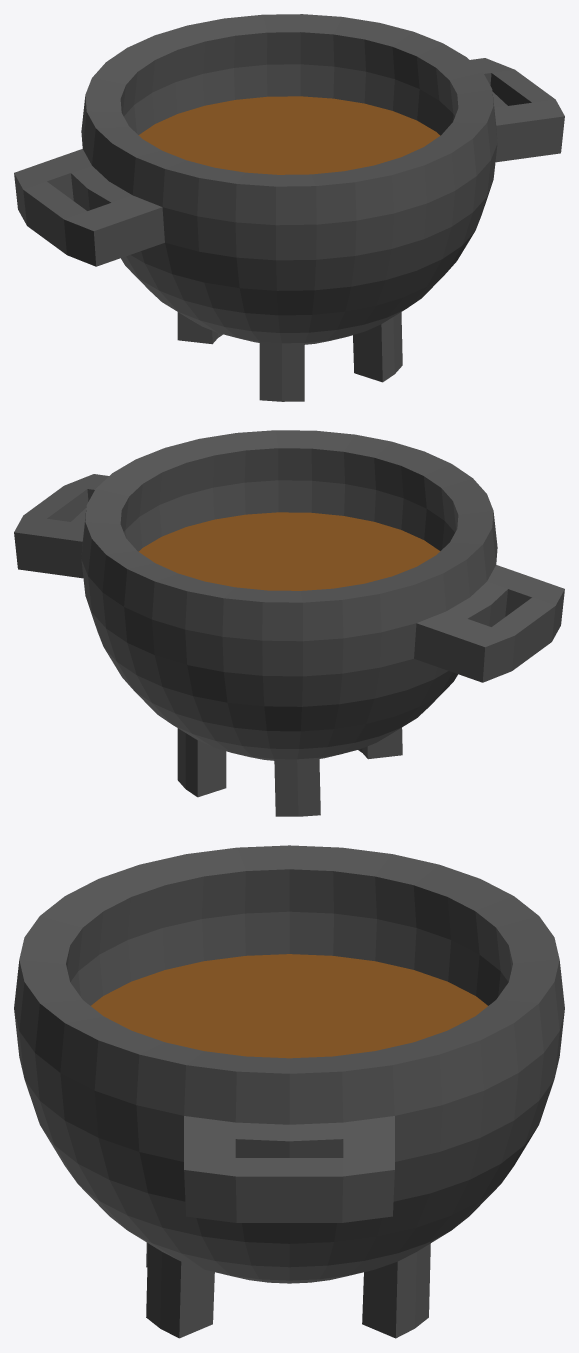
File: cauldron.fbx
The picture shows the model from 3 angles, top to bottom: view 1: azimuth 30°, elevation 25°; view 2: azimuth 150°, elevation 25°; view 3: azimuth 270°, elevation 25°; orthographic projection. The views are drawn at different scales.
Parts seen in each view (by area): view 1: Sphere; view 2: Sphere; view 3: Sphere.
Part boxes in pixels (x1=…): Sphere: x1=14, y1=14, x2=564, y2=401; Sphere: x1=14, y1=430, x2=564, y2=816; Sphere: x1=14, y1=845, x2=564, y2=1338.
Size of the model in its own units: 272 by 133 by 200.
